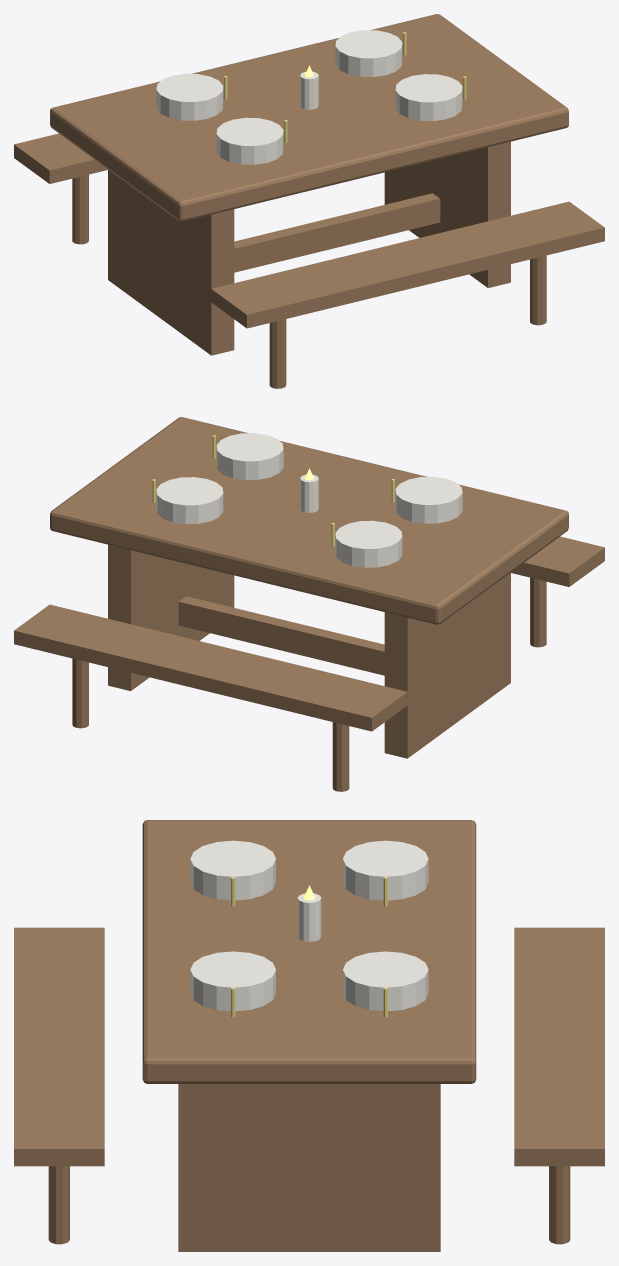
File: tavern_dining_table.glb
3 views of the same model, one above another, from view 1: azimuth 30°, elevation 25°; view 2: azimuth 150°, elevation 25°; view 3: azimuth 270°, elevation 25° (orthographic). The views are drawn at different scales.
Parts seen in each view (by area): view 1: TableTop, BenchNorth, TableLeg_-0.85, TableLeg_0.85, TableStretcher, BenchSouth, SoupBowl_1, SoupBowl_2, SoupBowl_0, SoupBowl_3, BenchNorth_Leg_-0.8, BenchNorth_Leg_0.8 (+2 smaller); view 2: TableTop, BenchSouth, TableLeg_-0.85, TableLeg_0.85, TableStretcher, BenchNorth, SoupBowl_0, SoupBowl_3, SoupBowl_1, SoupBowl_2, BenchSouth_Leg_-0.8, BenchNorth_Leg_-0.8 (+2 smaller); view 3: TableTop, TableLeg_0.85, BenchNorth, BenchSouth, SoupBowl_1, SoupBowl_3, SoupBowl_0, SoupBowl_2, BenchNorth_Leg_0.8, BenchSouth_Leg_0.8, TableCandle.
Boxes of the visible parts, x1,y1,x2,y2 form: TableTop: (50, 14, 568, 221); BenchNorth: (211, 201, 604, 328); TableLeg_-0.85: (108, 169, 234, 355); TableLeg_0.85: (384, 141, 510, 287); TableStretcher: (234, 193, 440, 272); BenchSouth: (14, 133, 107, 183); SoupBowl_1: (395, 74, 462, 121); SoupBowl_2: (156, 73, 223, 120); SoupBowl_0: (216, 117, 283, 164); SoupBowl_3: (335, 30, 402, 76); BenchNorth_Leg_-0.8: (269, 319, 286, 388); BenchNorth_Leg_0.8: (530, 255, 546, 325); TableTop: (50, 417, 568, 624); BenchSouth: (14, 604, 407, 731); TableLeg_-0.85: (384, 572, 510, 758); TableLeg_0.85: (108, 544, 234, 690); TableStretcher: (178, 596, 384, 675); BenchNorth: (511, 536, 604, 586); SoupBowl_0: (395, 476, 462, 523); SoupBowl_3: (156, 477, 223, 524); SoupBowl_1: (216, 433, 283, 479); SoupBowl_2: (335, 520, 402, 567); BenchSouth_Leg_-0.8: (332, 722, 349, 791); BenchNorth_Leg_-0.8: (530, 577, 546, 647); TableTop: (142, 820, 476, 1083); TableLeg_0.85: (178, 1084, 440, 1251); BenchNorth: (14, 927, 104, 1166); BenchSouth: (514, 927, 604, 1166); SoupBowl_1: (190, 951, 275, 1011); SoupBowl_3: (343, 951, 428, 1011); SoupBowl_0: (190, 840, 275, 900); SoupBowl_2: (343, 840, 428, 900); BenchNorth_Leg_0.8: (48, 1166, 69, 1244); BenchSouth_Leg_0.8: (549, 1166, 570, 1244); TableCandle: (297, 893, 321, 941).
Bounding box in the file's own units: 2.4 × 1.27 × 2.48.
